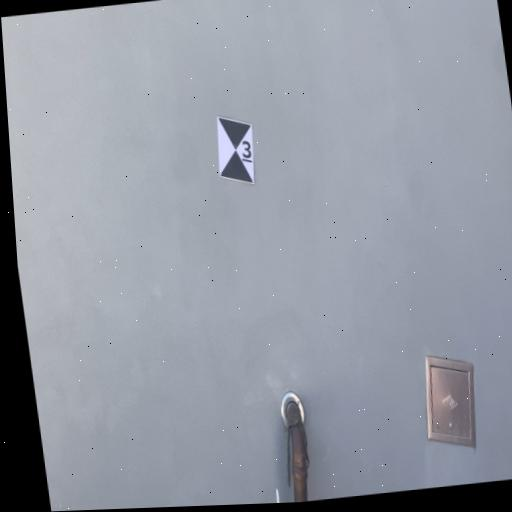target3: (217, 116, 255, 185)
